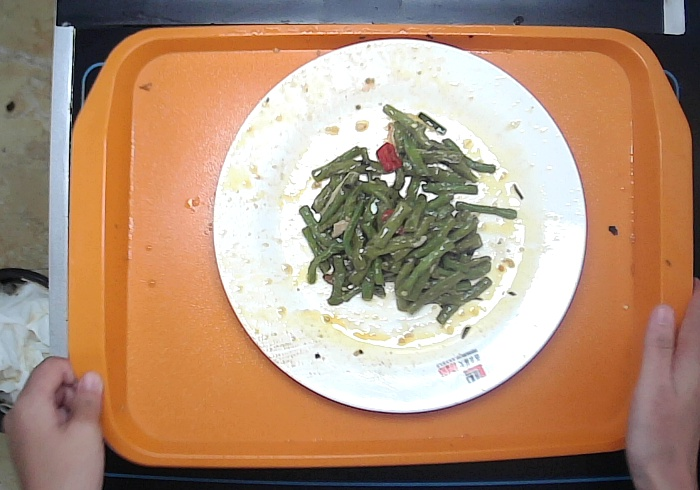ZNLD-Da_Yuan_Pan: (209, 33, 596, 422)
